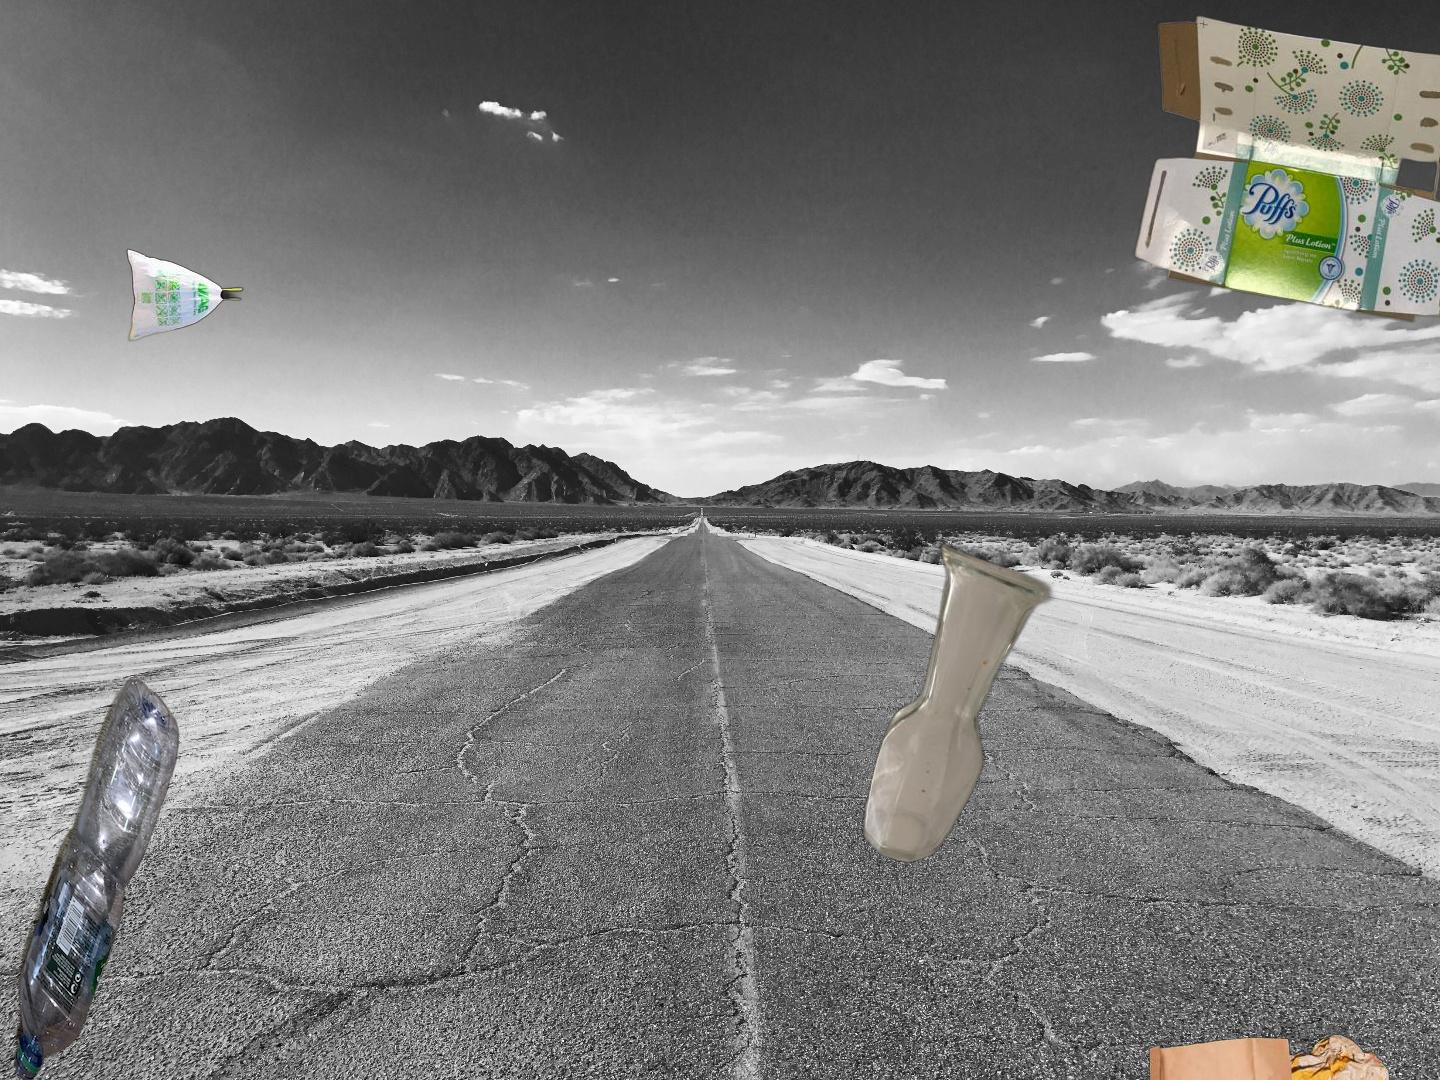glass: (859, 541, 1059, 864)
paper: (1129, 12, 1440, 324)
paper-bag: (1146, 1031, 1392, 1080)
plastic-bag: (120, 146, 420, 344)
plastic-bottles: (11, 675, 181, 1080)
